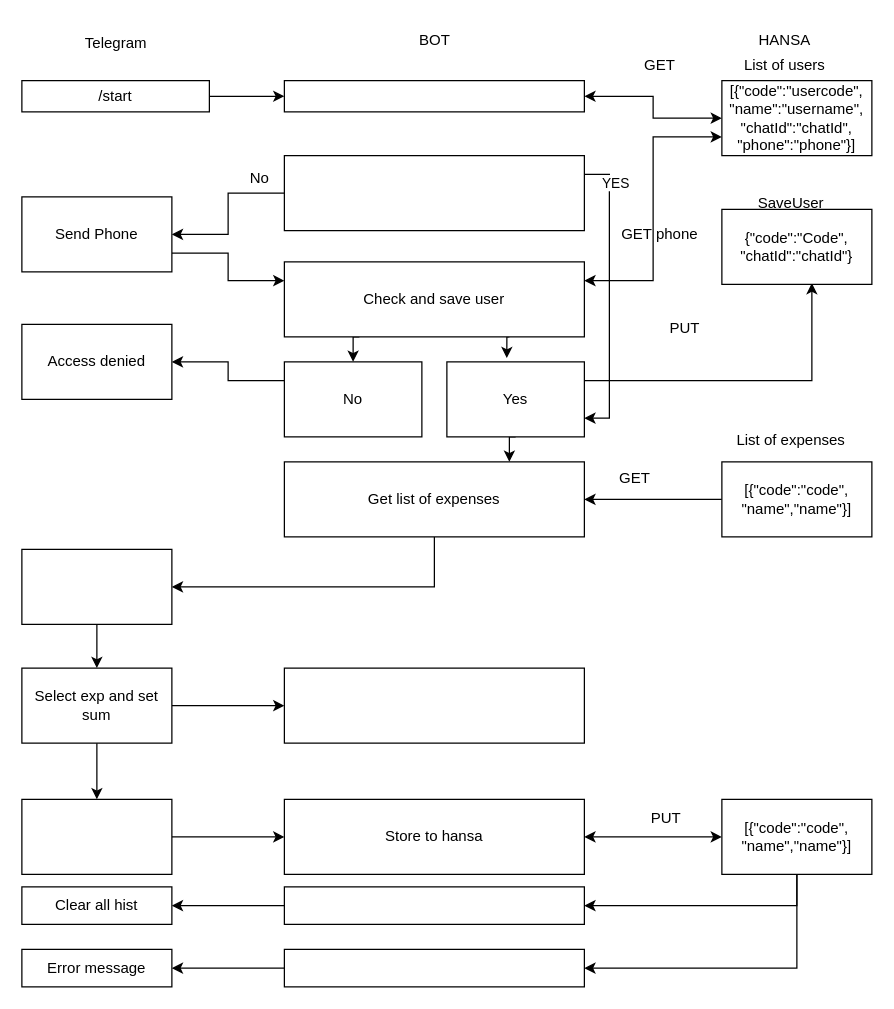
Image size: 894x1009. Some labels were removed from this diagram. The box of each missing label's shape, as (x1, y1, x2, y2) in pixels:
1. Check user chan id: (283, 79, 584, 112)
Confirm all exp: (21, 798, 172, 874)
Display list of exp: (21, 548, 172, 624)
Error: (283, 948, 584, 987)
Ok: (283, 886, 584, 924)
Store user/expenses in buffer: (283, 667, 584, 743)
UserExists?: (283, 154, 584, 231)
